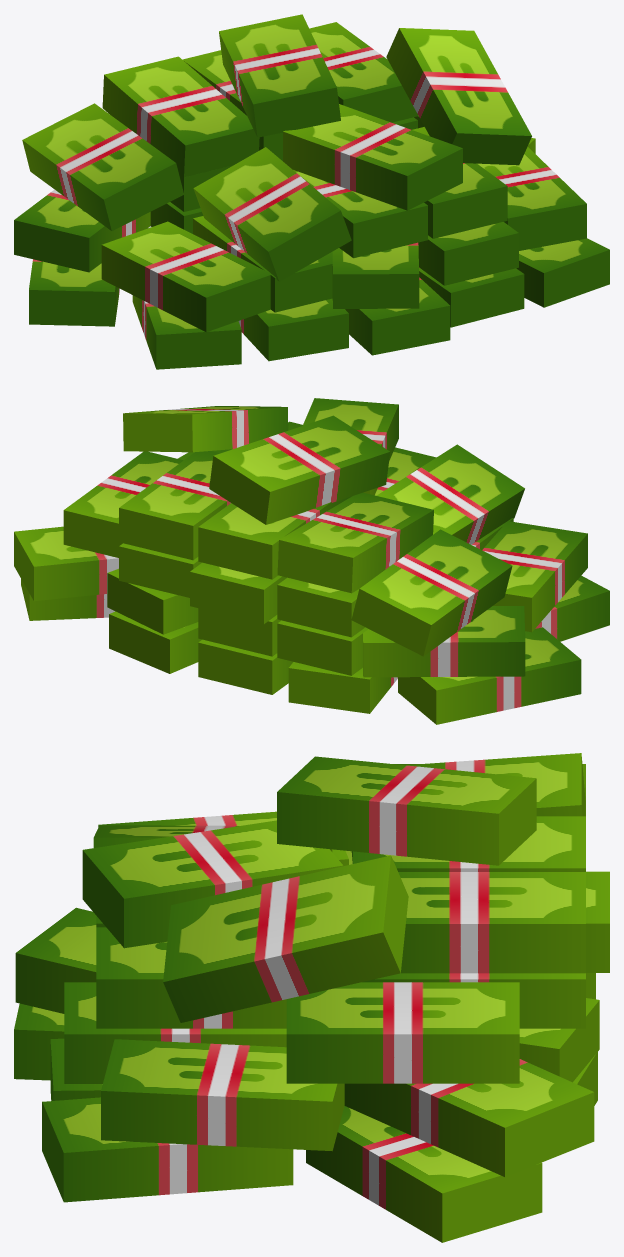
The model's file is Money-Balya.fbx.
3 views of the same model, one above another, from view 1: azimuth 30°, elevation 25°; view 2: azimuth 150°, elevation 25°; view 3: azimuth 270°, elevation 25° (orthographic). The views are drawn at different scales.
Parts seen in each view (by area): view 1: Cube.033, Cube.017, Cube.030, Cube.027, Cube.031, Cube.011, Cube.032, Cube.025, Cube.016, Cube.007, Cube.019, Cube.015 (+12 smaller); view 2: Cube.032, Cube.017, Cube.011, Cube.015, Cube.016, Cube.030, Cube.007, Cube.027, Cube.033, Cube.013, Cube.003, Cube.014 (+13 smaller); view 3: Cube.033, Cube.014, Cube.032, Cube.025, Cube.007, Cube.013, Cube.031, Cube.012, Cube.024, Cube.029, Cube.021, Cube.019 (+9 smaller).
Boxes of the visible parts, box(x1,y1,x2,y2) form: Cube.033: box(386, 28, 531, 165); Cube.017: box(22, 103, 183, 230); Cube.030: box(193, 147, 351, 281); Cube.027: box(101, 221, 271, 332); Cube.031: box(283, 104, 462, 210); Cube.011: box(102, 56, 259, 178); Cube.032: box(219, 14, 340, 137); Cube.025: box(477, 146, 586, 250); Cube.016: box(14, 189, 150, 272); Cube.007: box(309, 22, 417, 122); Cube.019: box(332, 242, 419, 308); Cube.015: box(29, 259, 119, 326); Cube.032: box(209, 415, 390, 524); Cube.017: box(351, 529, 512, 656); Cube.011: box(277, 492, 433, 593); Cube.015: box(398, 627, 581, 724); Cube.016: box(363, 606, 525, 677); Cube.030: box(376, 444, 524, 544); Cube.007: box(119, 451, 230, 560); Cube.027: box(482, 521, 587, 632); Cube.033: box(123, 406, 288, 452); Cube.013: box(14, 526, 118, 601); Cube.003: box(198, 496, 351, 579); Cube.014: box(63, 451, 183, 557); Cube.033: box(163, 855, 408, 1022); Cube.014: box(286, 982, 519, 1083); Cube.032: box(277, 756, 536, 865); Cube.025: box(101, 1039, 344, 1151); Cube.007: box(398, 872, 585, 973); Cube.013: box(344, 1059, 594, 1176); Cube.031: box(82, 820, 343, 948); Cube.012: box(306, 1106, 542, 1242); Cube.024: box(42, 1097, 293, 1202); Cube.029: box(96, 927, 286, 1028); Cube.021: box(64, 982, 286, 1083); Cube.019: box(15, 907, 96, 1013).
Size of the model in its own units: 1.88 by 0.6599 by 1.27.
